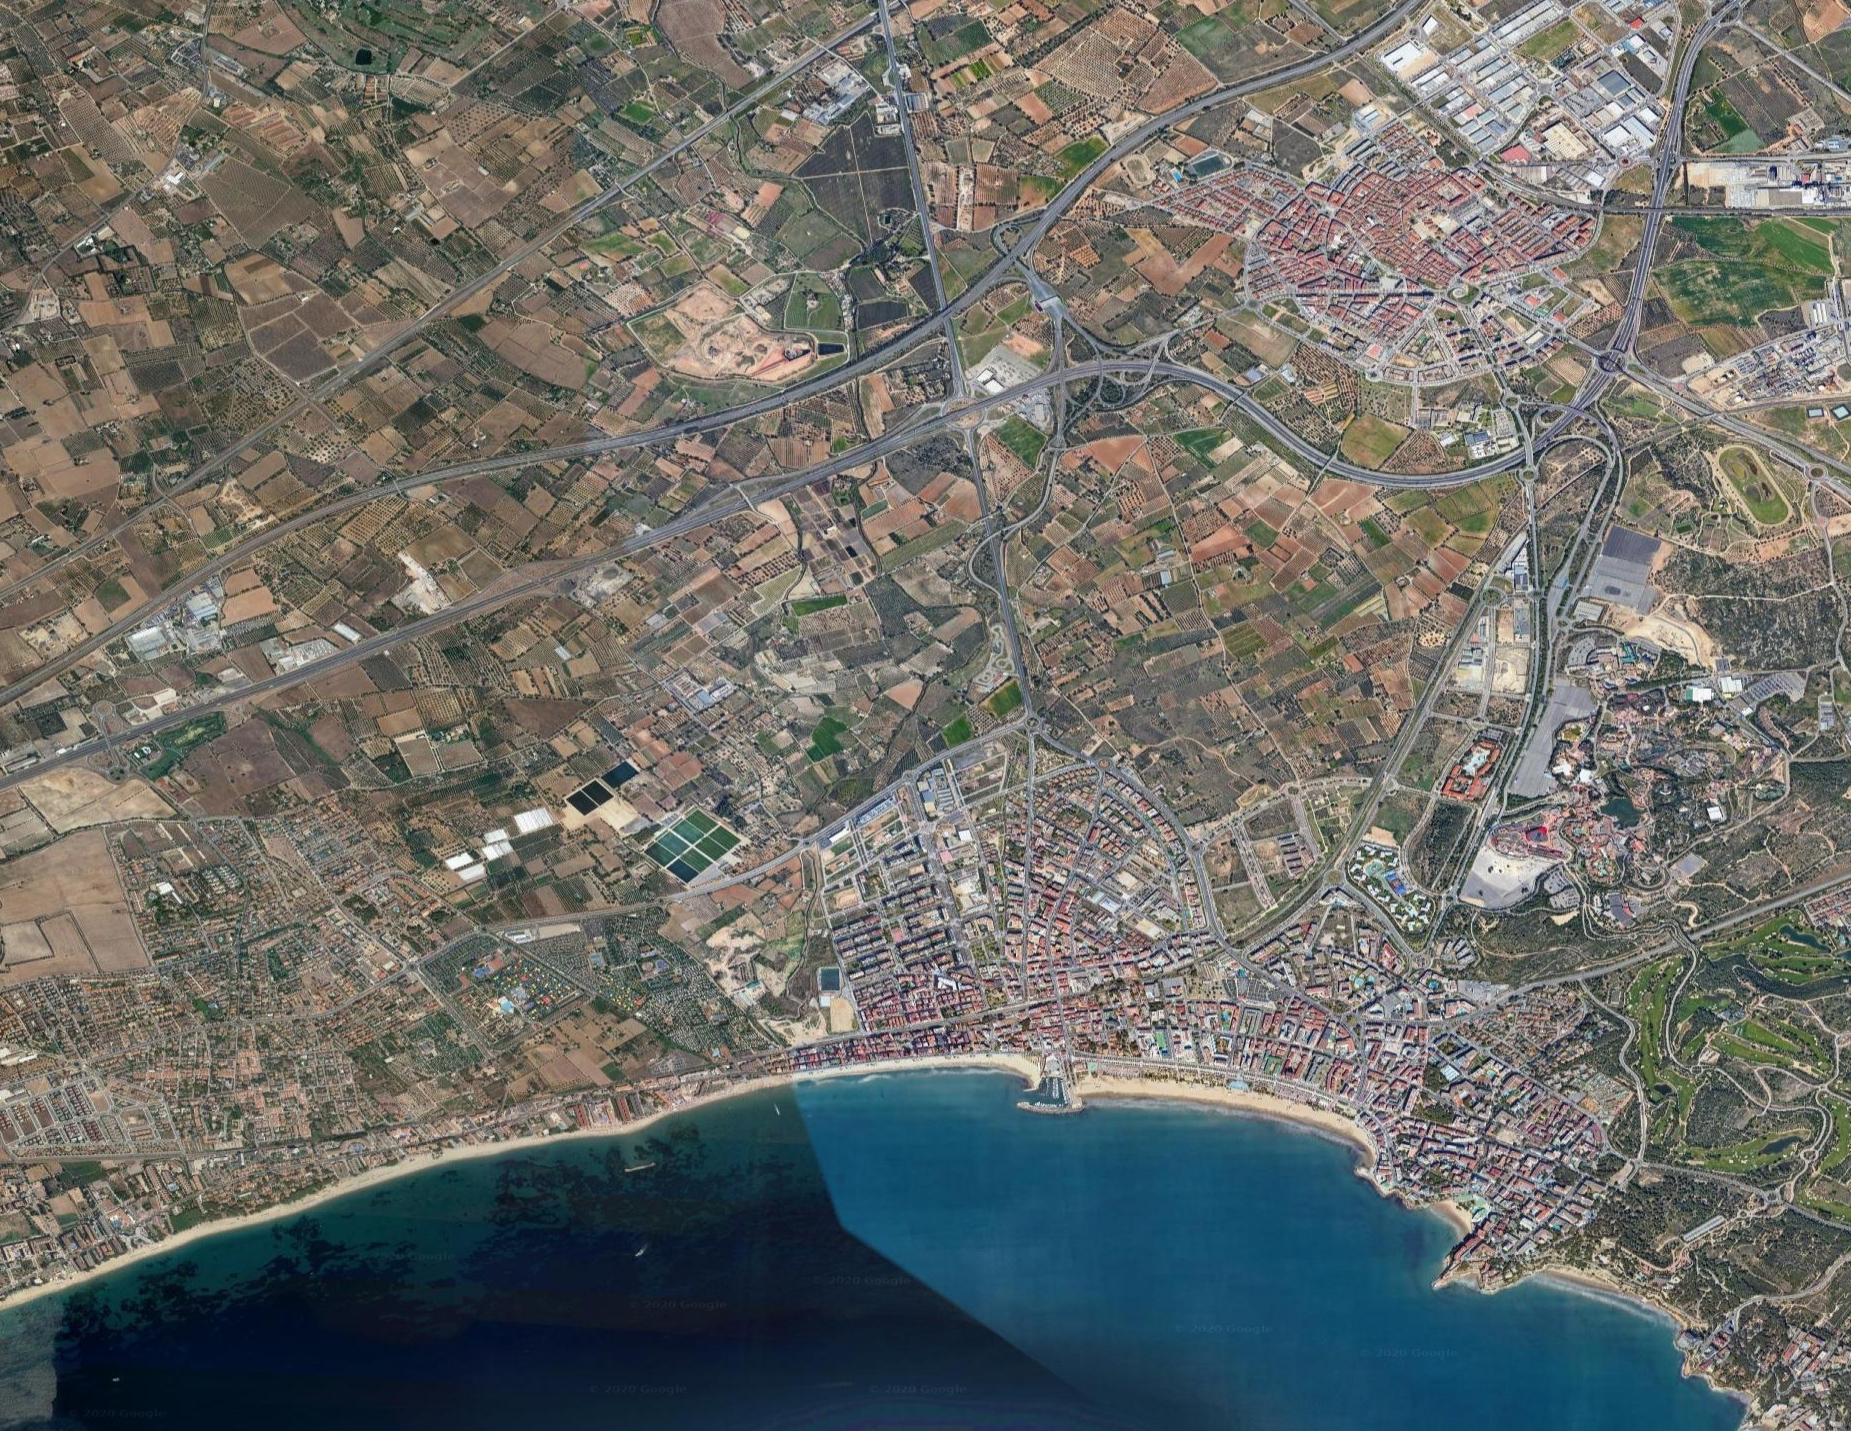industrial: (1421, 20, 1641, 180)
motorway: (1349, 292, 1650, 516), (989, 59, 1316, 253), (678, 237, 1004, 431), (20, 489, 346, 681), (349, 344, 675, 537), (1146, 777, 1378, 1004), (5, 646, 350, 794), (666, 404, 1011, 552), (334, 534, 678, 681), (996, 322, 1342, 467), (1375, 507, 1541, 785), (1600, 62, 1743, 283), (858, 38, 966, 237), (1629, 2, 1752, 65)
